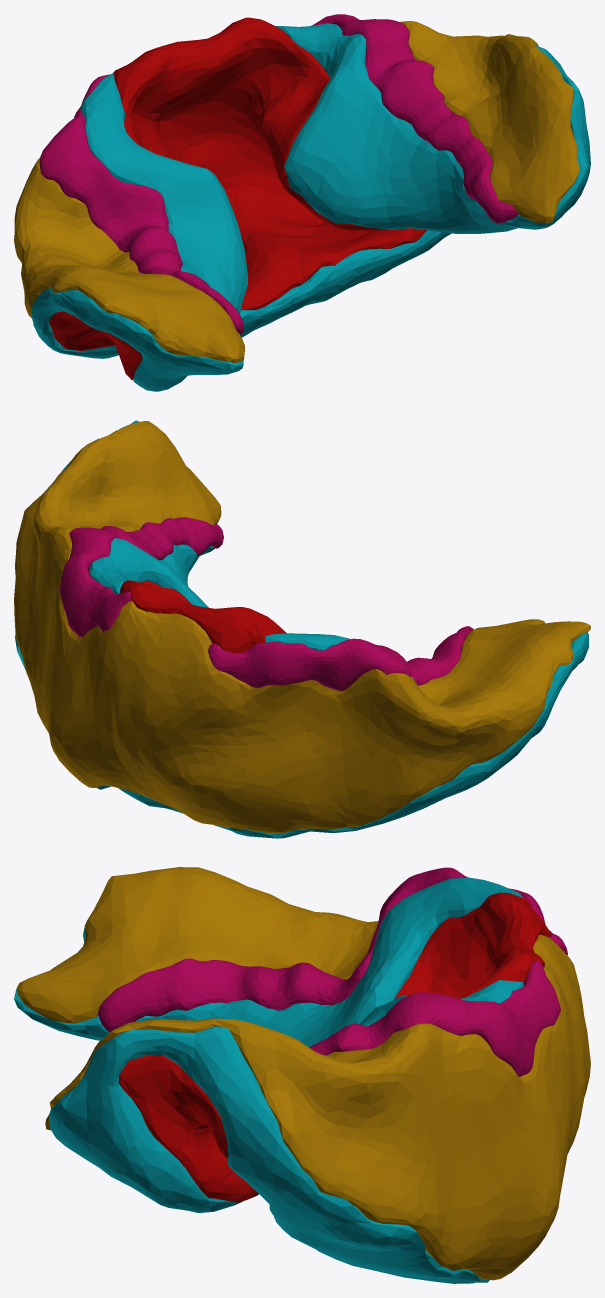
The model's file is objs.obj.
The picture shows the model from 3 angles, top to bottom: view 1: azimuth 30°, elevation 25°; view 2: azimuth 150°, elevation 25°; view 3: azimuth 270°, elevation 25°; orthographic projection. The views are drawn at different scales.
Visible parts, largest first — view 1: line_20190402_E2_spl_5000, line_20190402_E2_myo_5000, line_20190402_E2_som_5000, line_20190402_E2_pro_5000; view 2: line_20190402_E2_som_5000, line_20190402_E2_pro_5000, line_20190402_E2_spl_5000, line_20190402_E2_myo_5000; view 3: line_20190402_E2_som_5000, line_20190402_E2_spl_5000, line_20190402_E2_pro_5000, line_20190402_E2_myo_5000.
Part boxes in pixels (bbox=[...]): line_20190402_E2_spl_5000: bbox=[31, 23, 590, 391]; line_20190402_E2_myo_5000: bbox=[49, 17, 426, 379]; line_20190402_E2_som_5000: bbox=[14, 21, 579, 362]; line_20190402_E2_pro_5000: bbox=[39, 14, 518, 334]; line_20190402_E2_som_5000: bbox=[14, 421, 590, 833]; line_20190402_E2_pro_5000: bbox=[60, 517, 473, 691]; line_20190402_E2_spl_5000: bbox=[15, 420, 588, 838]; line_20190402_E2_myo_5000: bbox=[88, 569, 286, 652]; line_20190402_E2_som_5000: bbox=[16, 867, 590, 1280]; line_20190402_E2_spl_5000: bbox=[14, 877, 523, 1283]; line_20190402_E2_pro_5000: bbox=[98, 867, 567, 1076]; line_20190402_E2_myo_5000: bbox=[118, 892, 551, 1202].
Size of the model in its own units: 1.39 by 0.6988 by 1.03.
